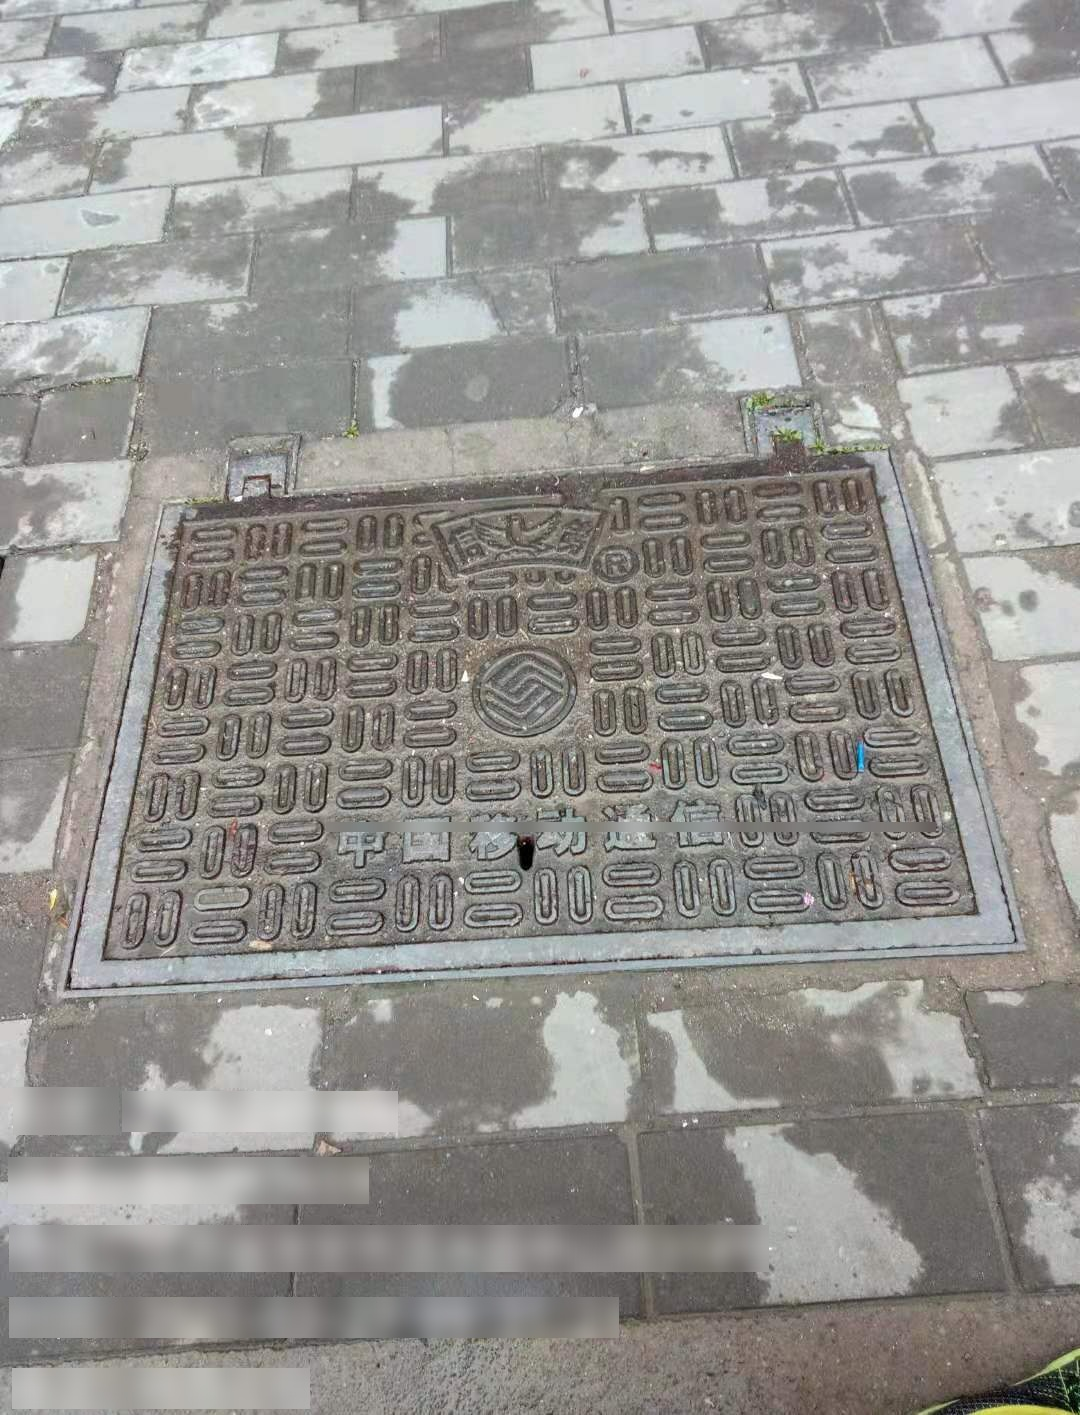good: (54, 395, 1033, 995)
